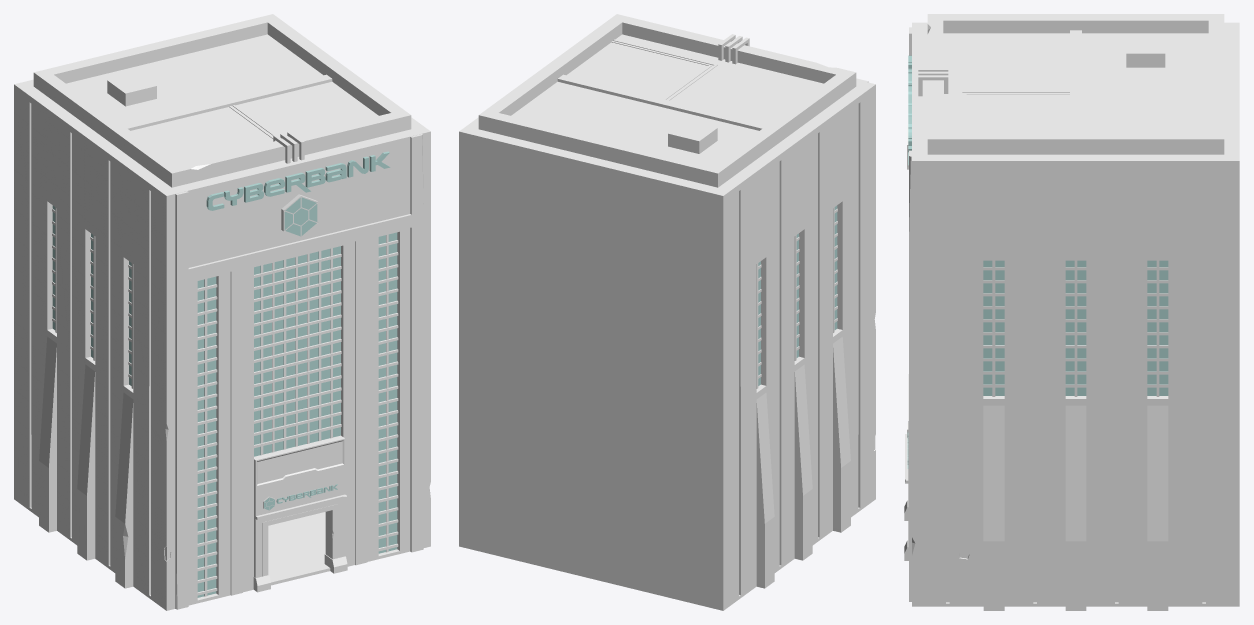
The model's file is SM_Building_07.fbx.
3 renders of one model, left to right at view 1: azimuth 30°, elevation 25°; view 2: azimuth 150°, elevation 25°; view 3: azimuth 270°, elevation 25°, orthographic. The views are drawn at different scales.
Visible parts, largest first — view 1: SM_Building_07; view 2: SM_Building_07; view 3: SM_Building_07.
Boxes of the visible parts, x1,y1,x2,y2 form: SM_Building_07: [14, 14, 430, 610]; SM_Building_07: [459, 14, 875, 610]; SM_Building_07: [904, 14, 1239, 610].
Bounding box in the file's own units: 1062 × 1565 × 1024.
